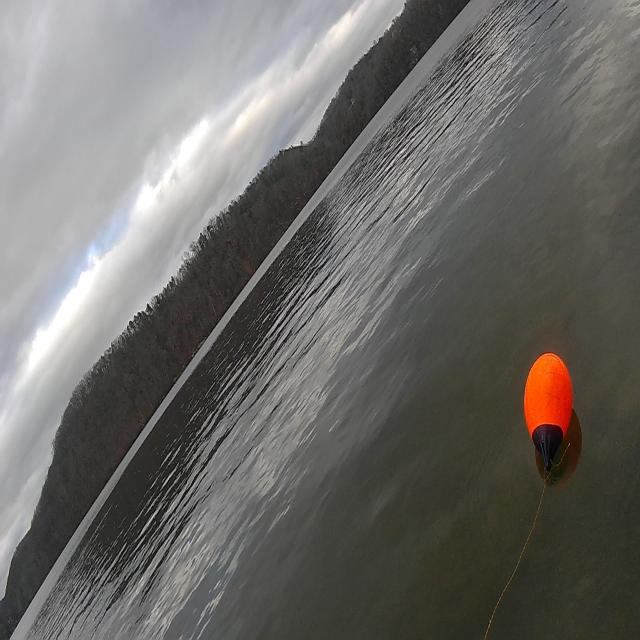Buoy: (522, 349, 574, 438)
